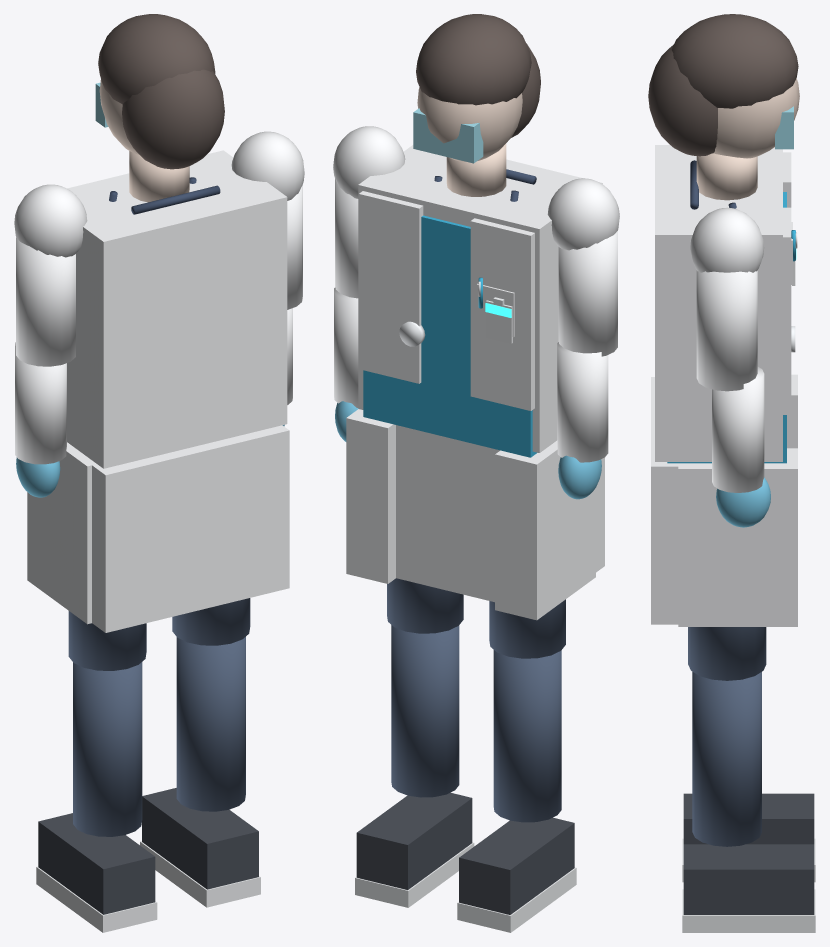
File: doctor_character.glb
The picture shows the model from 3 angles, left to right: view 1: azimuth 30°, elevation 25°; view 2: azimuth 150°, elevation 25°; view 3: azimuth 270°, elevation 25°; orthographic projection.
Visible parts, largest first — view 1: Doctor_Coat_Back, Doctor_Coat_Skirt_Back, Doctor_Calf_R, Doctor_Calf_L, Doctor_Coat_Skirt_Left, Doctor_Shoe_Upper_L, Doctor_Shoe_Upper_R, Doctor_Hair_Back, Doctor_Hair_Top, Doctor_Arm_Upper_L, Doctor_Arm_Lower_L, Doctor_Shoulder_L (+10 smaller); view 2: Doctor_Torso_Scrubs, Doctor_Coat_Skirt_Back, Doctor_Coat_Skirt_Left, Doctor_Coat_Back, Doctor_Calf_R, Doctor_Calf_L, Doctor_Coat_Lapel_R, Doctor_Coat_Lapel_L, Doctor_Hair_Top, Doctor_Shoe_Upper_R, Doctor_Shoe_Upper_L, Doctor_Coat_Skirt_Right (+17 smaller); view 3: Doctor_Coat_Back, Doctor_Coat_Skirt_Right, Doctor_Calf_R, Doctor_Shoe_Upper_R, Doctor_Hair_Top, Doctor_Arm_Upper_R, Doctor_Arm_Lower_R, Doctor_Coat_Skirt_Back, Doctor_Hair_Back, Doctor_Shoulder_R, Doctor_Thigh_R, Doctor_Head (+10 smaller).
Boxes of the visible parts, <box> form: Doctor_Coat_Back: <box>67,150,287,468</box>; Doctor_Coat_Skirt_Back: <box>67,425,289,632</box>; Doctor_Calf_R: <box>176,637,245,811</box>; Doctor_Calf_L: <box>73,662,142,836</box>; Doctor_Coat_Skirt_Left: <box>27,447,91,624</box>; Doctor_Shoe_Upper_L: <box>38,813,155,914</box>; Doctor_Shoe_Upper_R: <box>142,788,258,889</box>; Doctor_Hair_Back: <box>122,69,224,169</box>; Doctor_Hair_Top: <box>98,14,215,104</box>; Doctor_Arm_Upper_L: <box>16,237,75,366</box>; Doctor_Arm_Lower_L: <box>15,342,66,464</box>; Doctor_Shoulder_L: <box>14,184,87,257</box>; Doctor_Torso_Scrubs: <box>363,215,537,457</box>; Doctor_Coat_Skirt_Back: <box>396,425,604,602</box>; Doctor_Coat_Skirt_Left: <box>495,440,595,620</box>; Doctor_Coat_Back: <box>358,145,602,452</box>; Doctor_Calf_R: <box>391,625,459,797</box>; Doctor_Calf_L: <box>493,650,561,822</box>; Doctor_Coat_Lapel_R: <box>359,191,423,383</box>; Doctor_Coat_Lapel_L: <box>470,218,534,410</box>; Doctor_Hair_Top: <box>416,14,531,105</box>; Doctor_Shoe_Upper_R: <box>356,792,472,889</box>; Doctor_Shoe_Upper_L: <box>459,817,574,914</box>; Doctor_Coat_Skirt_Right: <box>346,409,395,583</box>; Doctor_Coat_Back: <box>655,145,782,461</box>; Doctor_Coat_Skirt_Right: <box>678,448,797,626</box>; Doctor_Calf_R: <box>692,672,761,846</box>; Doctor_Shoe_Upper_R: <box>683,844,814,914</box>; Doctor_Hair_Top: <box>671,14,798,108</box>; Doctor_Arm_Upper_R: <box>696,270,757,391</box>; Doctor_Arm_Lower_R: <box>712,366,764,492</box>; Doctor_Coat_Skirt_Back: <box>651,377,781,624</box>; Doctor_Hair_Back: <box>648,44,717,156</box>; Doctor_Shoulder_R: <box>690,207,764,272</box>; Doctor_Thigh_R: <box>688,627,766,680</box>; Doctor_Head: <box>714,78,799,158</box>.
Size of the model in its own units: 0.596 by 1.77 by 0.3075.
